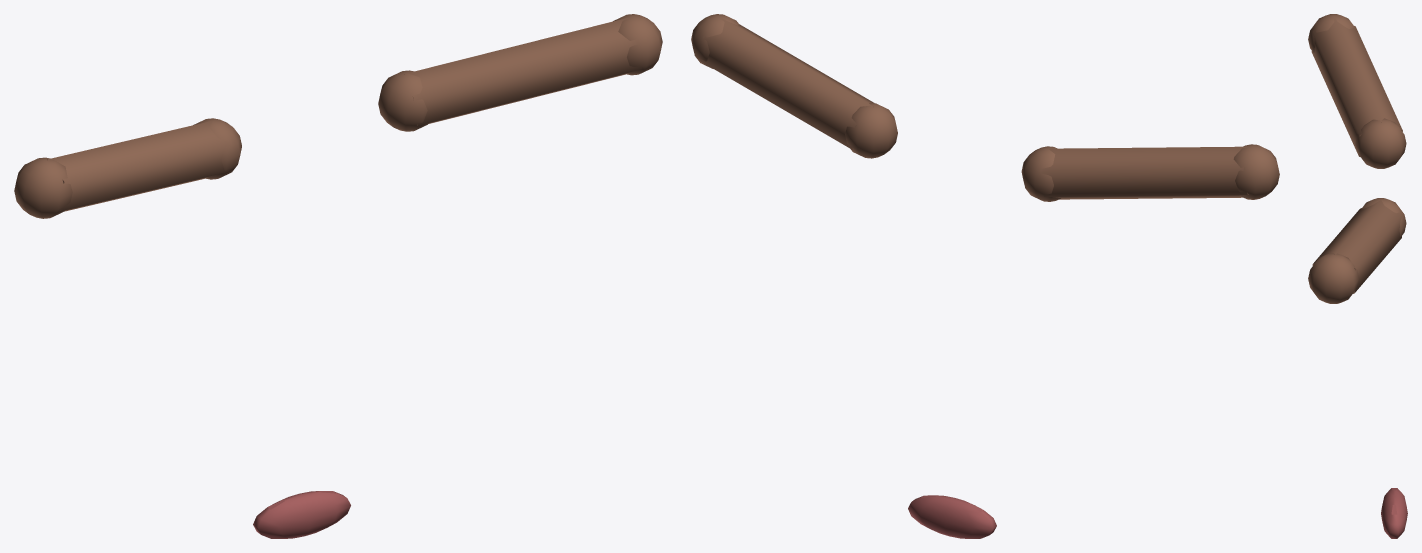
File: Face_Brows.fbx
The picture shows the model from 3 angles, left to right: view 1: azimuth 30°, elevation 25°; view 2: azimuth 150°, elevation 25°; view 3: azimuth 270°, elevation 25°; orthographic projection. The views are drawn at different scales.
Visible parts, largest first — view 1: Brow, Brow.001, Mouth, Brow_Cap.003, Brow_Cap, Brow_Cap.001, Brow_Cap.002; view 2: Brow.001, Brow, Mouth, Brow_Cap, Brow_Cap.003, Brow_Cap.002, Brow_Cap.001; view 3: Brow.001, Brow, Brow_Cap.001, Brow_Cap.002, Mouth, Brow_Cap.003, Brow_Cap.
Part boxes in pixels (x1=…): Brow: x1=404, y1=17, x2=641, y2=125; Brow.001: x1=47, y1=120, x2=231, y2=211; Mouth: x1=253, y1=491, x2=350, y2=538; Brow_Cap.003: x1=14, y1=157, x2=72, y2=218; Brow_Cap: x1=378, y1=70, x2=428, y2=131; Brow_Cap.001: x1=613, y1=14, x2=662, y2=75; Brow_Cap.002: x1=193, y1=118, x2=241, y2=179; Brow.001: x1=1040, y1=146, x2=1248, y2=199; Brow: x1=700, y1=18, x2=874, y2=150; Mouth: x1=908, y1=495, x2=996, y2=538; Brow_Cap: x1=845, y1=103, x2=897, y2=158; Brow_Cap.003: x1=1233, y1=144, x2=1279, y2=199; Brow_Cap.002: x1=1021, y1=146, x2=1060, y2=201; Brow_Cap.001: x1=691, y1=14, x2=739, y2=68; Brow.001: x1=1311, y1=18, x2=1402, y2=156; Brow: x1=1312, y1=199, x2=1402, y2=293; Brow_Cap.001: x1=1308, y1=253, x2=1359, y2=303; Brow_Cap.002: x1=1355, y1=118, x2=1406, y2=168; Mouth: x1=1381, y1=488, x2=1407, y2=538; Brow_Cap.003: x1=1308, y1=14, x2=1354, y2=52; Brow_Cap: x1=1361, y1=198, x2=1406, y2=236.
Bounding box in the file's own units: 45.61 × 32.3 × 7.4.
